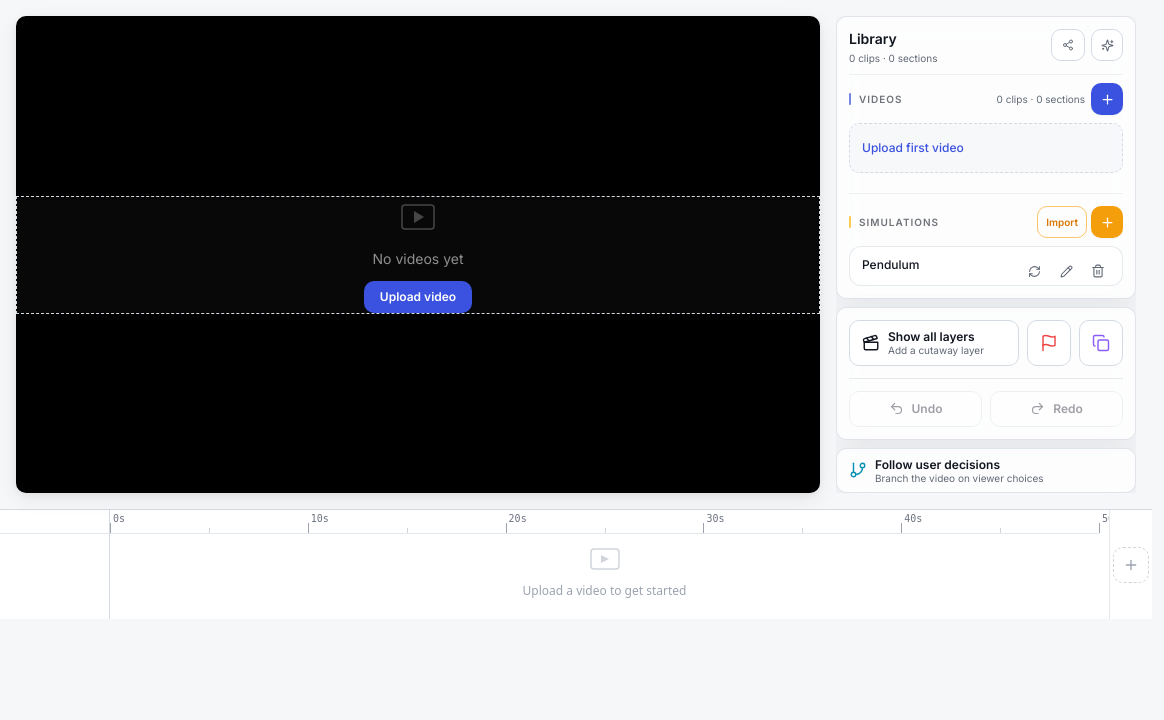
editor — simulation rename › keeps the server’s version of the name when the write succeeds
Click the button named "Rename simulation".
click(1066, 271)  # box x1=1050 y1=255 x2=1082 y2=287
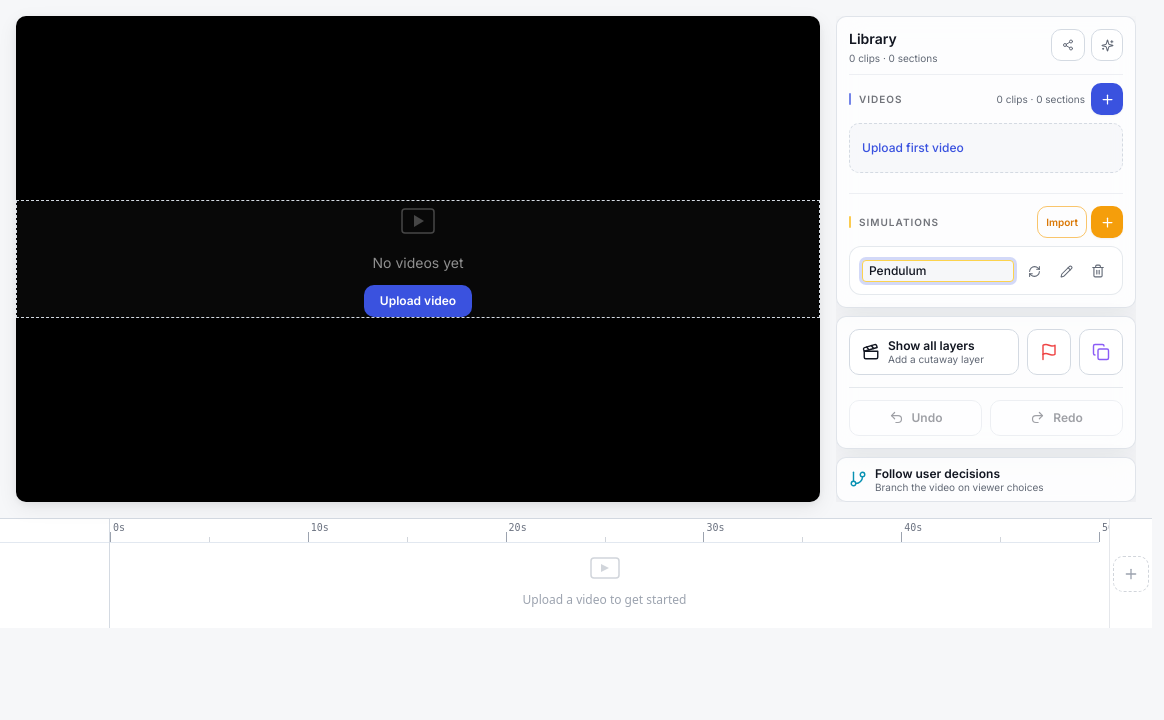
Replace the text in the field named "Simulation name" with "  Double pendulum  " at (938, 271), box x1=862 y1=260 x2=1014 y2=282
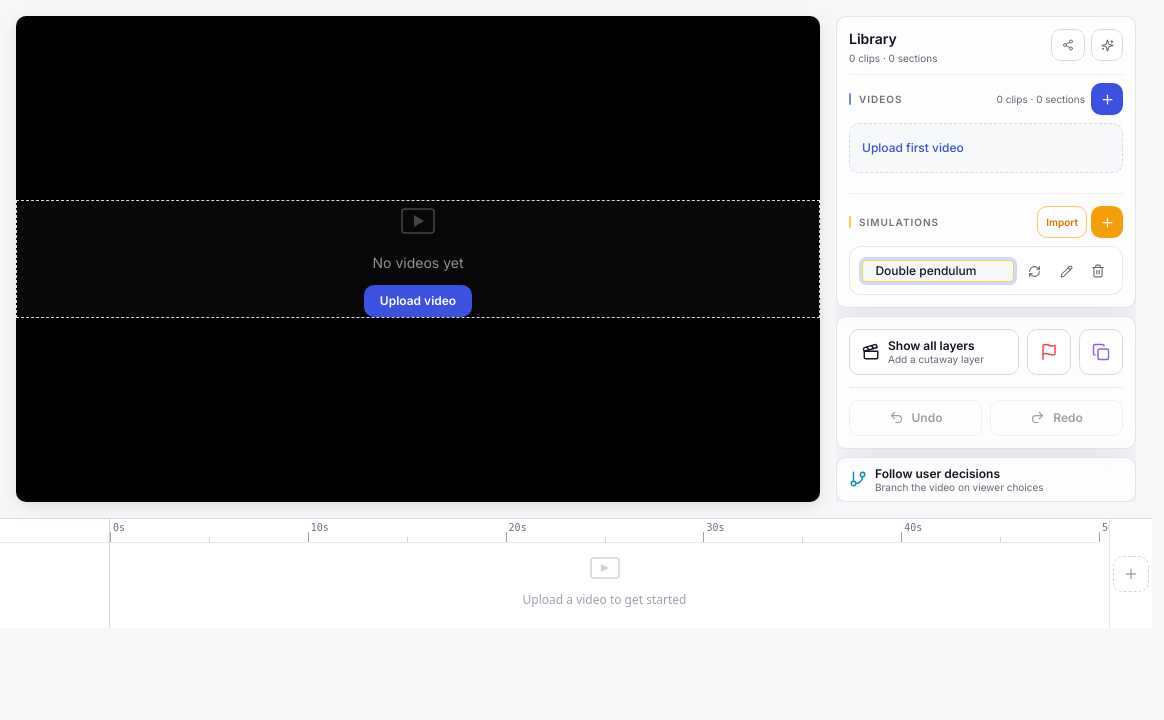
Leave the field named "Simulation name", box x1=862 y1=260 x2=1014 y2=282
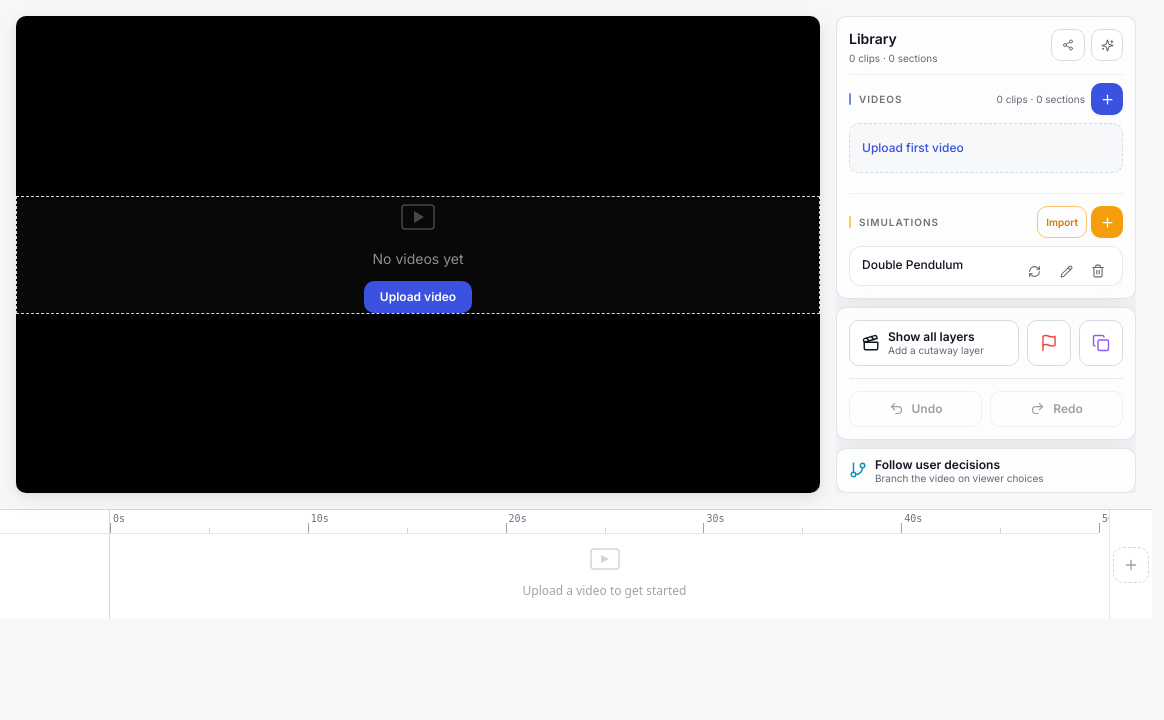
Expected: the text "Double Pendulum" is shown, x1=862 y1=257 x2=963 y2=272
